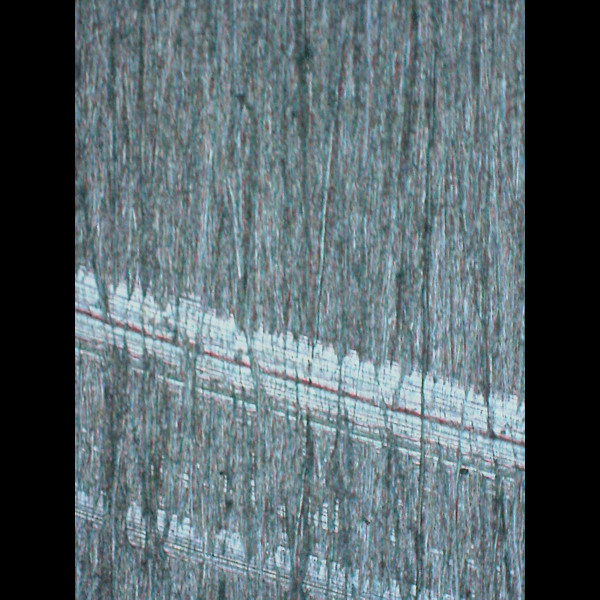d: (75, 265, 523, 489), (77, 490, 458, 599)
